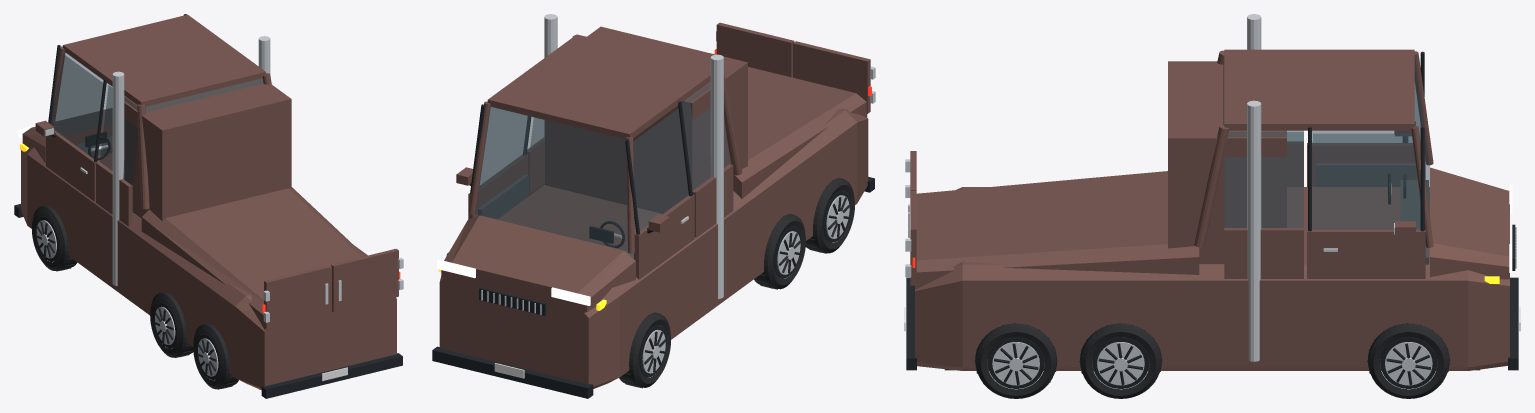
Rendered from truck_semi.glb.
3 renders of one model, left to right at view 1: azimuth 30°, elevation 25°; view 2: azimuth 150°, elevation 25°; view 3: azimuth 270°, elevation 25°, orthographic. The views are drawn at different scales.
Visible parts, largest first — view 1: Body, Door_FL, Door_Rear_R, Door_Rear_L, Wheel_RL, Wheel_FL, Wheel_ML; view 2: Body, Door_FL, Door_FR, Door_Rear_L, Door_Rear_R, Wheel_ML, Wheel_FL, Wheel_RL; view 3: Body, Door_FR, Door_FL, Wheel_FR, Wheel_RR, Wheel_MR, Door_Rear_R.
Part boxes in pixels (<box>): Body: <box>14,14,402,398</box>; Door_FL: <box>35,45,106,201</box>; Door_Rear_R: <box>331,248,403,312</box>; Door_Rear_L: <box>263,265,331,328</box>; Wheel_RL: <box>193,323,238,389</box>; Wheel_FL: <box>31,204,77,271</box>; Wheel_ML: <box>150,291,193,357</box>; Body: <box>432,14,874,398</box>; Door_FL: <box>625,101,694,279</box>; Door_FR: <box>456,104,531,219</box>; Door_Rear_L: <box>793,41,875,113</box>; Door_Rear_R: <box>716,22,794,77</box>; Wheel_ML: <box>754,213,805,289</box>; Wheel_FL: <box>619,312,670,388</box>; Wheel_RL: <box>805,177,854,253</box>; Body: <box>904,14,1520,370</box>; Door_FR: <box>1307,127,1425,278</box>; Door_FL: <box>1307,51,1425,186</box>; Wheel_FR: <box>1367,323,1450,398</box>; Wheel_RR: <box>974,323,1057,398</box>; Wheel_MR: <box>1079,323,1162,398</box>; Door_Rear_R: <box>905,190,916,285</box>.
Size of what is drawn, in the model's own units: 3 by 3.86 by 7.36.
